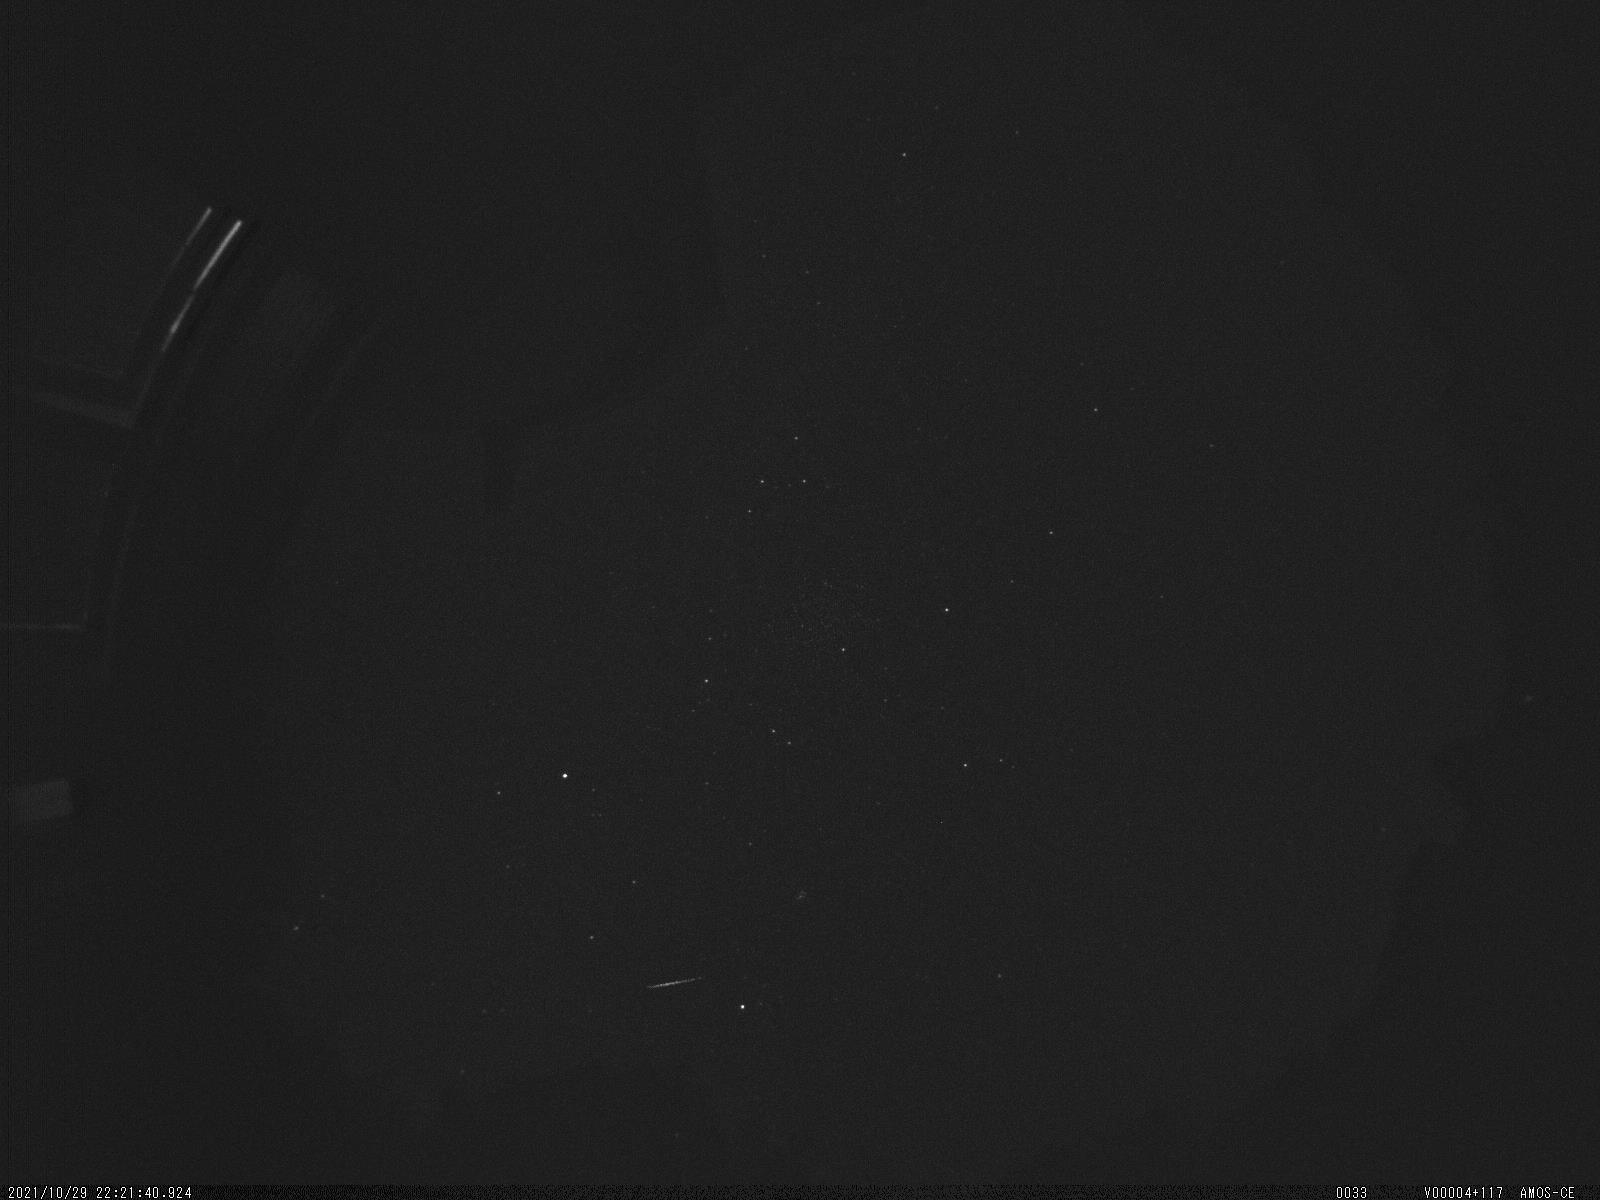Meteor: (638, 967, 710, 1000)
